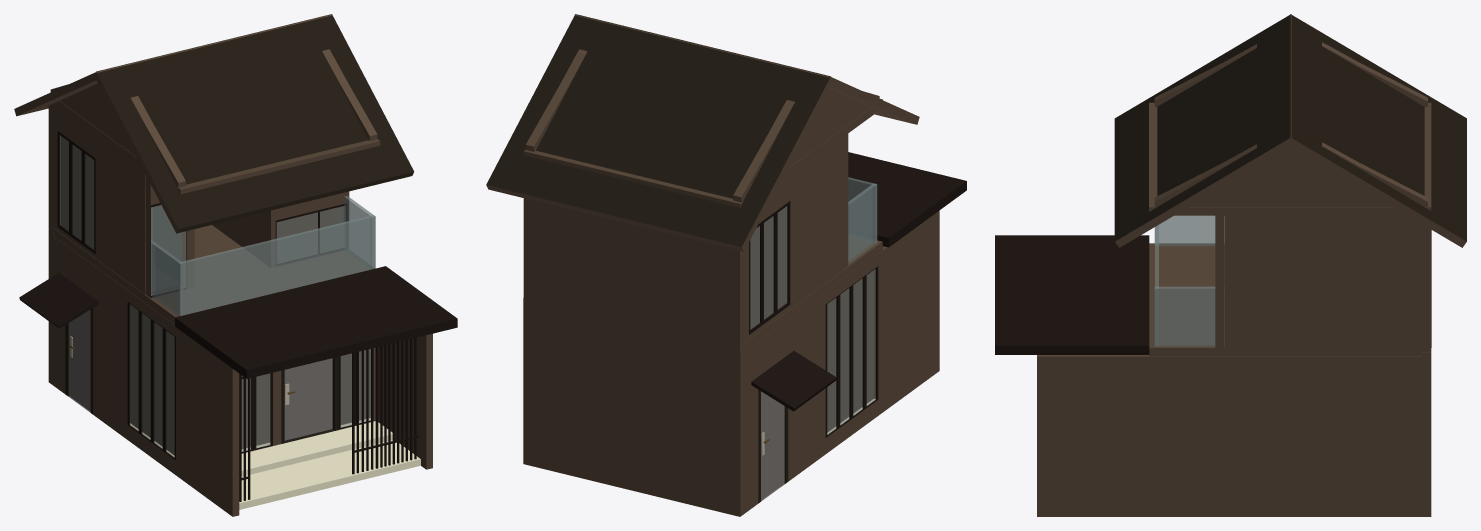
File: Modern House 2.FBX
The picture shows the model from 3 angles, left to right: view 1: azimuth 30°, elevation 25°; view 2: azimuth 150°, elevation 25°; view 3: azimuth 270°, elevation 25°; orthographic projection. The views are drawn at different scales.
Parts seen in each view (by area): view 1: Box018, Box007, Box002, Box009, Box024, Box001, Box006, Box011, Box015, Box003, Box016, Box020 (+10 smaller); view 2: Box019, Box005, Box007, Box010, Box009, Box002, Box020, Box006, Box027, Box017, Box022, Box018 (+3 smaller); view 3: Box003, Box008, Box019, Box018, Box002, Box006, Box021, Box023, Box017, Box022, Box020, Box015 (+2 smaller).
Boxes of the visible parts, bbox=[...] form: Box018: bbox=[94, 14, 414, 233]; Box007: bbox=[53, 236, 239, 516]; Box002: bbox=[175, 266, 457, 378]; Box009: bbox=[53, 105, 152, 294]; Box024: bbox=[179, 215, 375, 315]; Box001: bbox=[241, 347, 375, 453]; Box006: bbox=[48, 225, 369, 324]; Box011: bbox=[130, 418, 420, 509]; Box015: bbox=[266, 191, 349, 268]; Box003: bbox=[378, 333, 432, 469]; Box016: bbox=[146, 176, 194, 297]; Box020: bbox=[50, 83, 185, 187]; Box019: bbox=[486, 14, 832, 251]; Box005: bbox=[523, 298, 744, 516]; Box007: bbox=[745, 210, 939, 512]; Box010: bbox=[523, 198, 744, 346]; Box009: bbox=[744, 136, 844, 341]; Box002: bbox=[848, 152, 966, 247]; Box020: bbox=[733, 89, 879, 202]; Box006: bbox=[523, 238, 882, 350]; Box027: bbox=[751, 351, 836, 411]; Box017: bbox=[523, 98, 882, 207]; Box022: bbox=[848, 183, 877, 263]; Box018: bbox=[574, 14, 919, 124]; Box003: bbox=[1037, 355, 1426, 516]; Box008: bbox=[1225, 215, 1425, 348]; Box019: bbox=[1286, 14, 1466, 247]; Box018: bbox=[1114, 14, 1295, 247]; Box002: bbox=[995, 235, 1149, 354]; Box006: bbox=[1149, 243, 1431, 356]; Box021: bbox=[1154, 142, 1427, 206]; Box023: bbox=[1154, 286, 1224, 346]; Box017: bbox=[1149, 102, 1431, 215]; Box022: bbox=[1154, 215, 1224, 246]; Box020: bbox=[1154, 42, 1427, 106]; Box015: bbox=[1215, 215, 1224, 347].
Size of the model in its own units: 1441 by 1938 by 2131.
